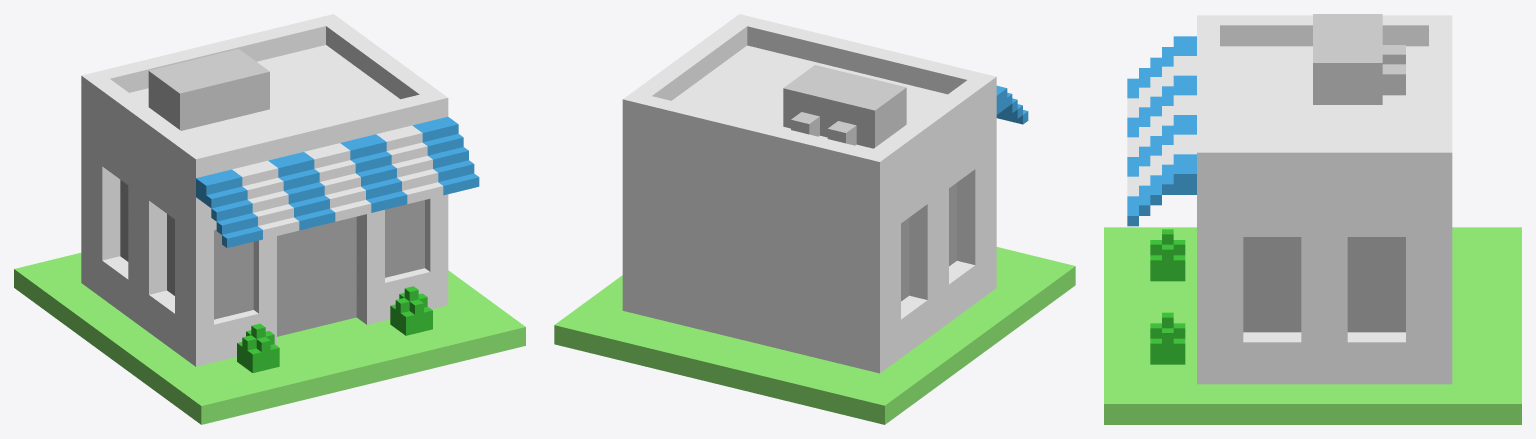
3 views of the same model, side by side, from view 1: azimuth 30°, elevation 25°; view 2: azimuth 150°, elevation 25°; view 3: azimuth 270°, elevation 25° (orthographic). The views are drawn at different scales.
Parts seen in each view (by area): view 1: store; view 2: store; view 3: store.
Part boxes in pixels (x1,y1,x2,y2): store: [14, 14, 525, 424]; store: [554, 14, 1075, 424]; store: [1104, 14, 1521, 424].
Size of the model in its own units: 4.5 by 3.25 by 4.5.
